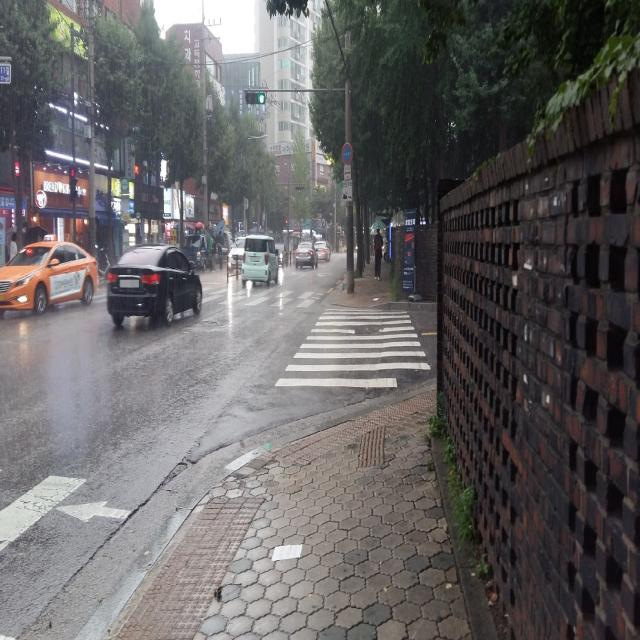횡단보도: (0, 425, 169, 640), (275, 308, 431, 387)
